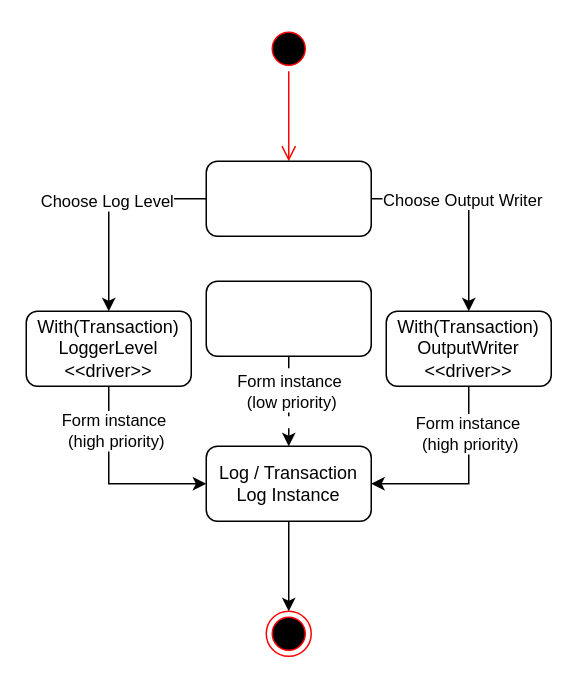
This 578x683 diagram has some shape labels left out. The shapes that lost their labels are listed below. From the top down, each one's centre as x and y in pixels, then its label:
point (288, 198): Log / Transaction Log
point (288, 318): Defined YAML Config
